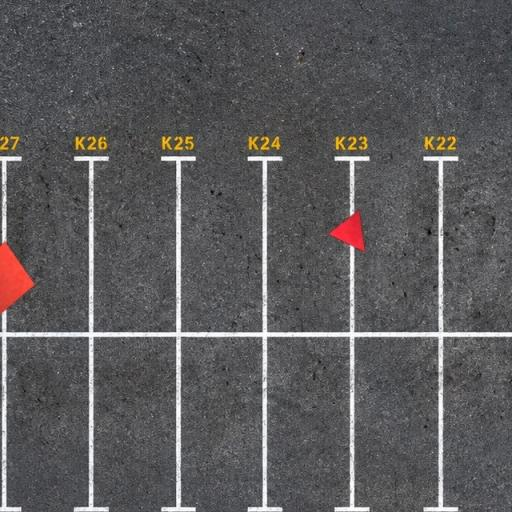RED_SQUARE: (0, 241, 36, 322)
